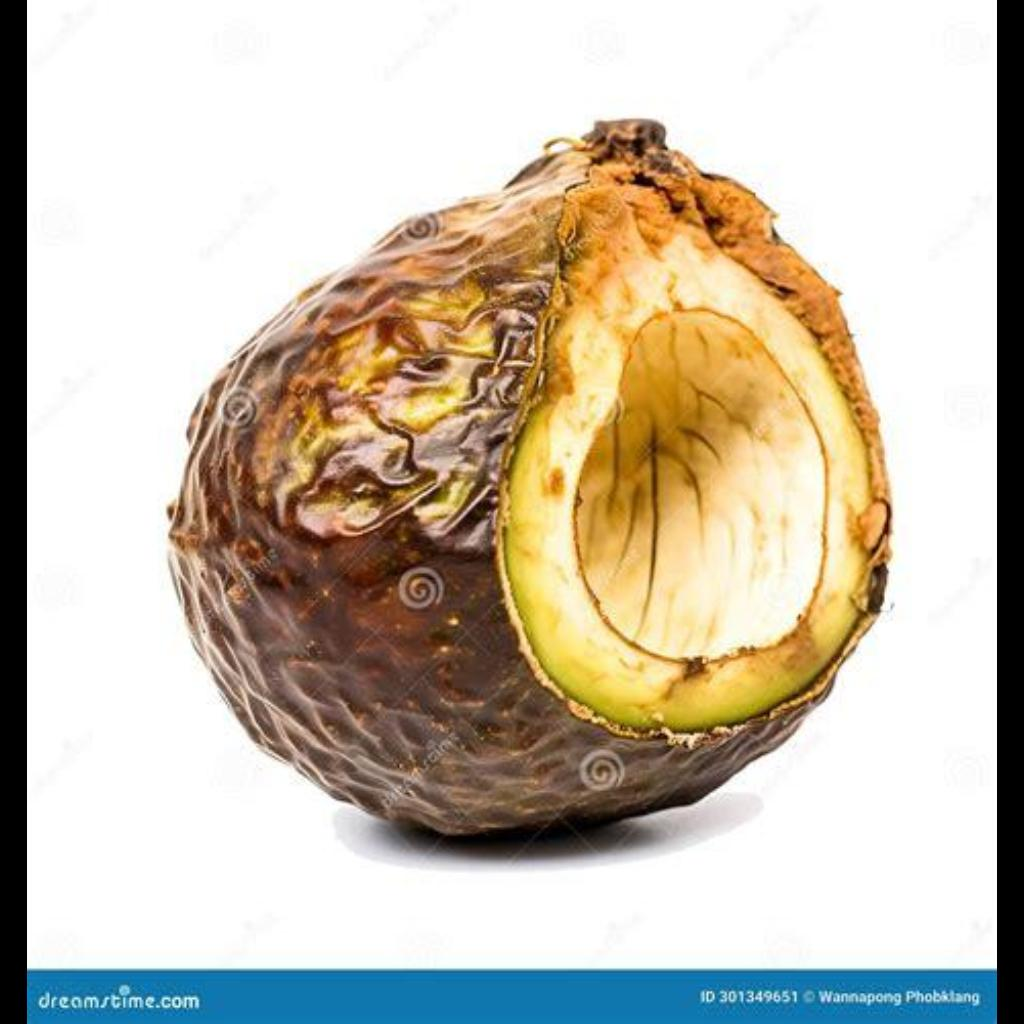antracnosis_fruto: (207, 234, 891, 783)
